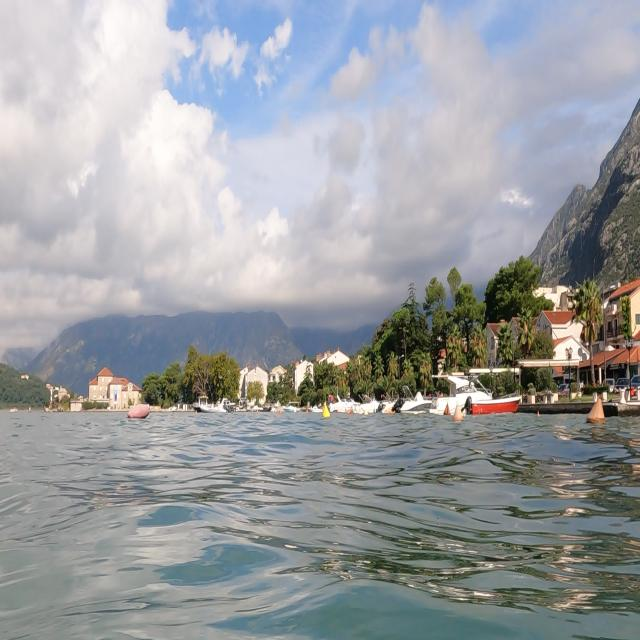boat: (470, 361, 526, 421), (396, 378, 438, 421), (340, 392, 386, 420), (187, 389, 234, 415)
buoy: (122, 394, 151, 434), (586, 394, 608, 429), (450, 400, 465, 430), (319, 402, 334, 423)
